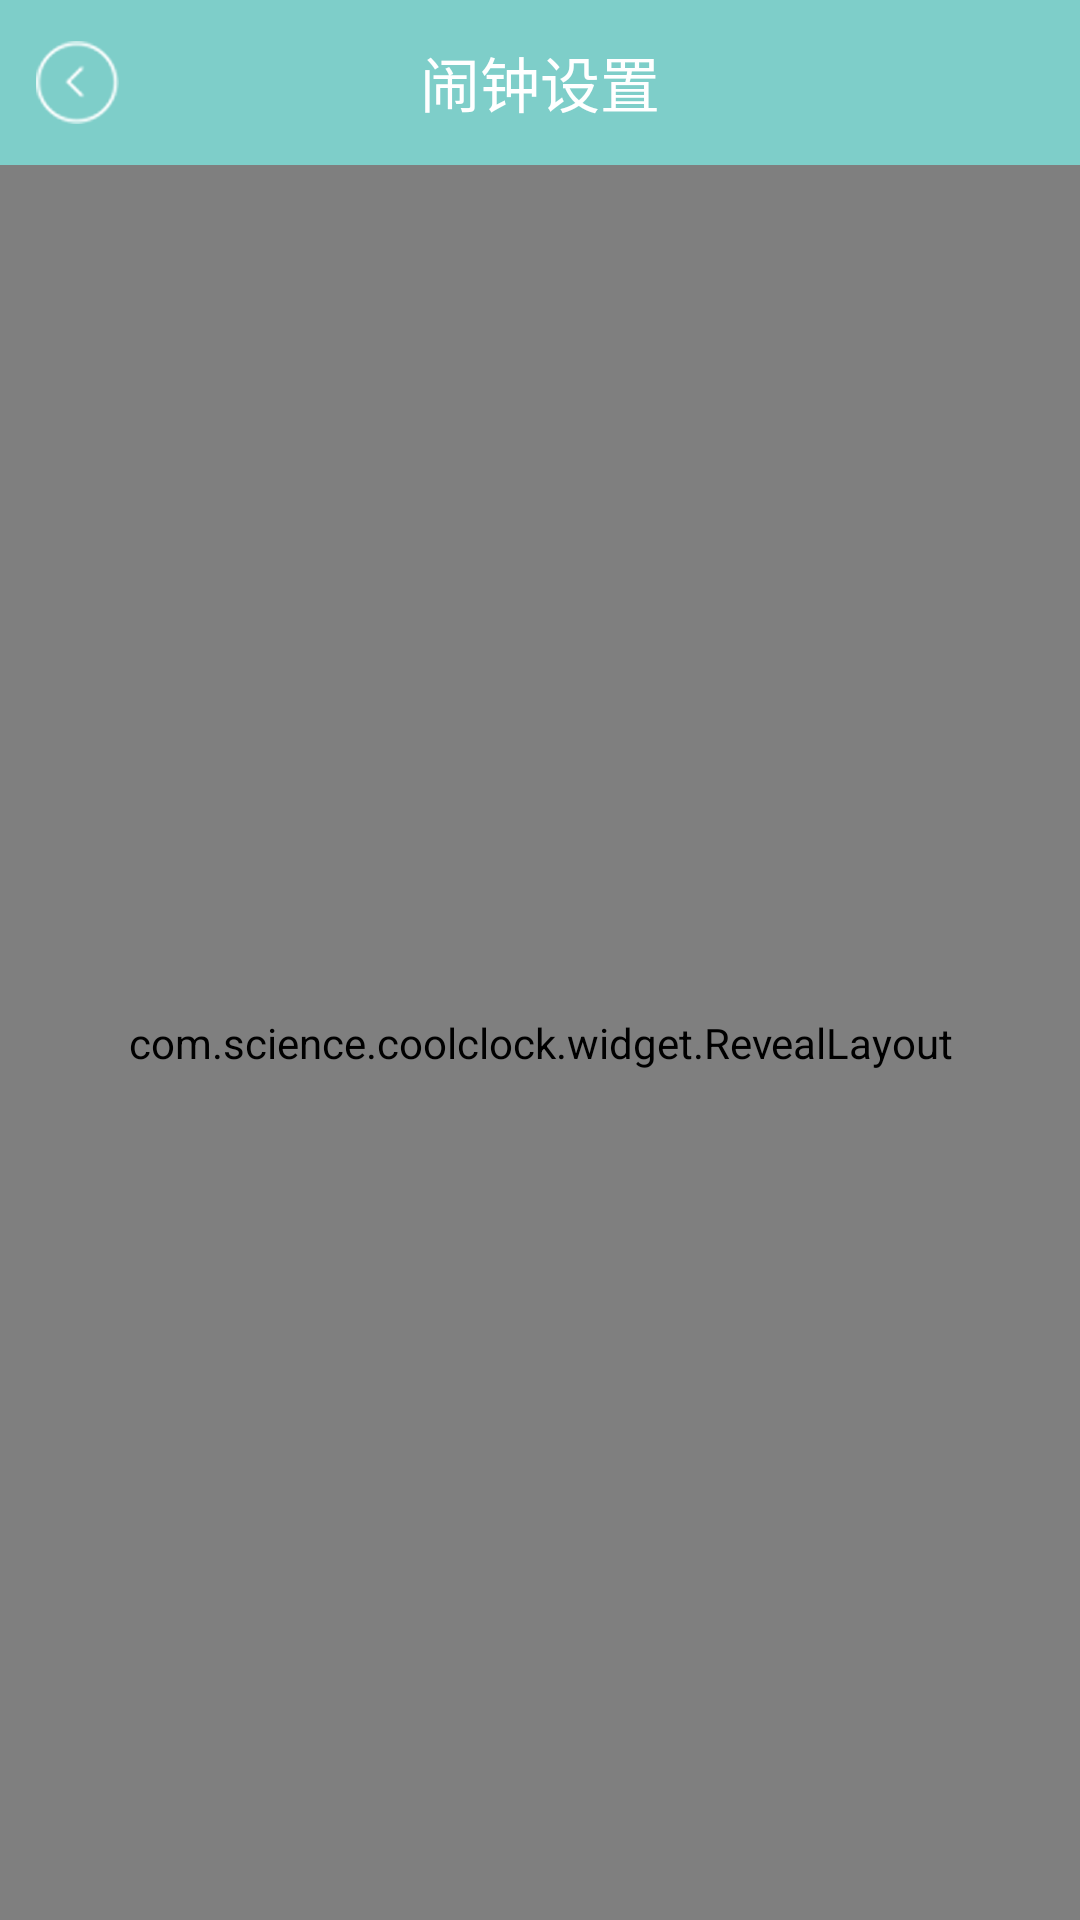

Point at icon controls on the screen. Image size 1080w x 1920h, points as (x=x, y=y).
back: (x=77, y=82)
